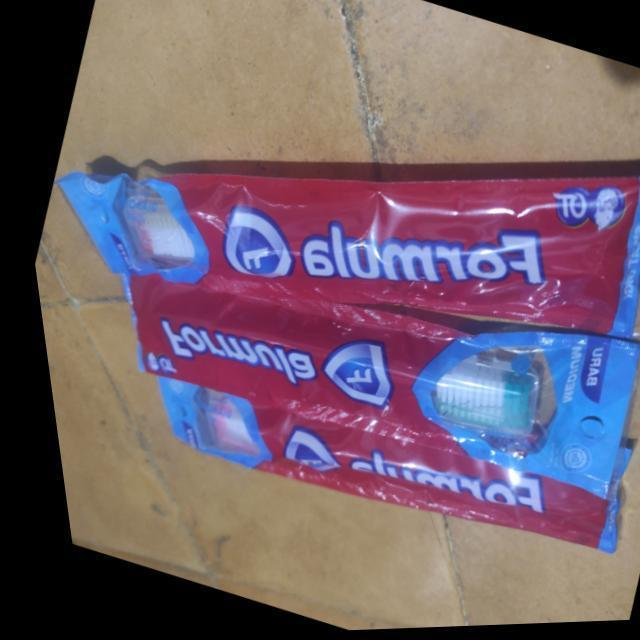toothbrush: (148, 299, 537, 450), (116, 205, 586, 303), (190, 411, 564, 529)
